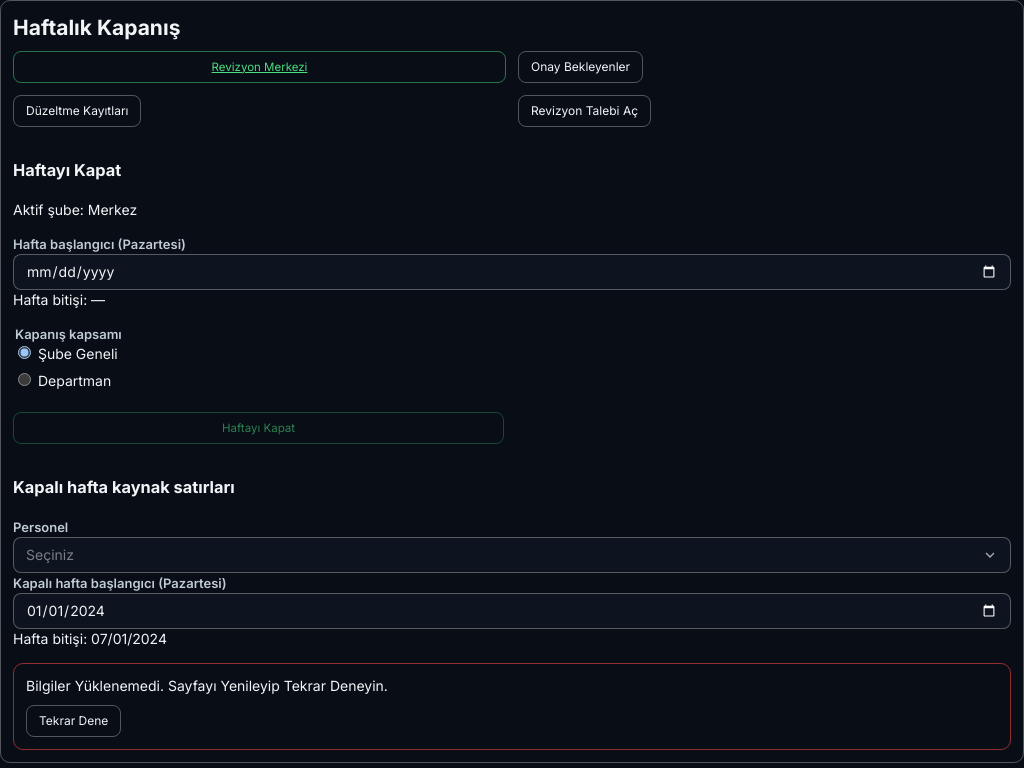
Scenario: HaftalikKapanisClosePanel UI › protects double submit so POST runs once
Expected: the button with test id "hk-close-open" is shown, top-left (13, 412), bottom-right (504, 444)
Type "2026-04-06" into the date field with test id "hk-close-hafta-baslangic" at (512, 272), box top-left (13, 254), bottom-right (1011, 290)
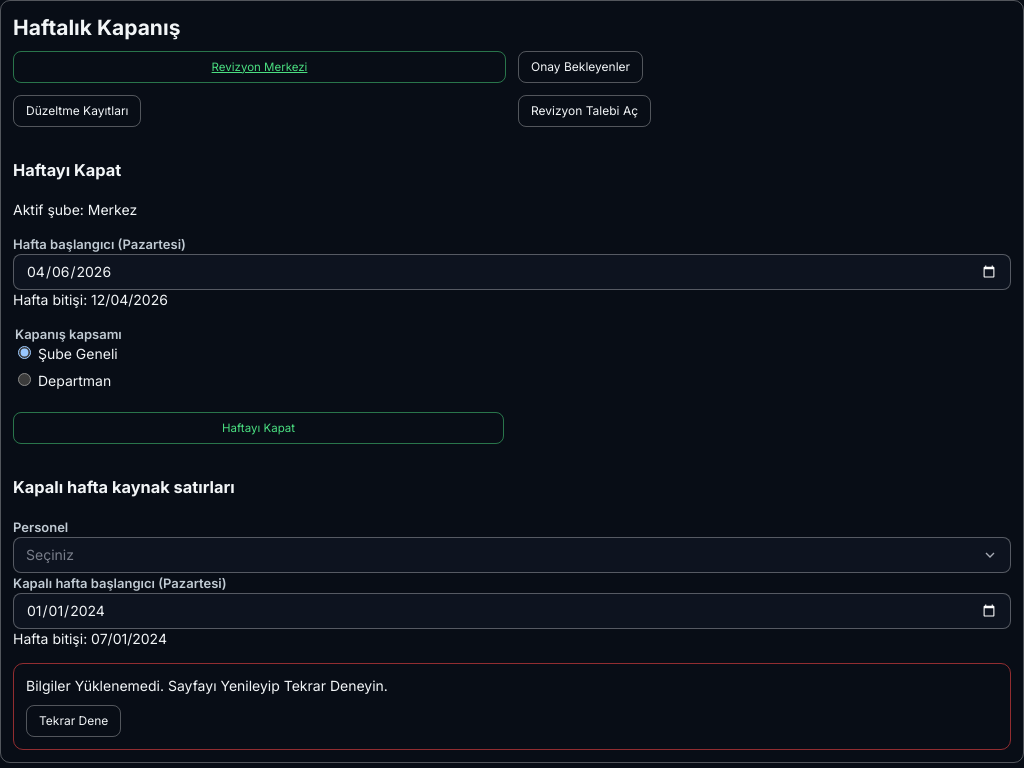
Expected: the text with test id "hk-close-hafta-bitis" shows "12/04/2026", top-left (91, 291), bottom-right (168, 308)
Click the button with test id "hk-close-open" at (258, 428), box top-left (13, 412), bottom-right (504, 444)
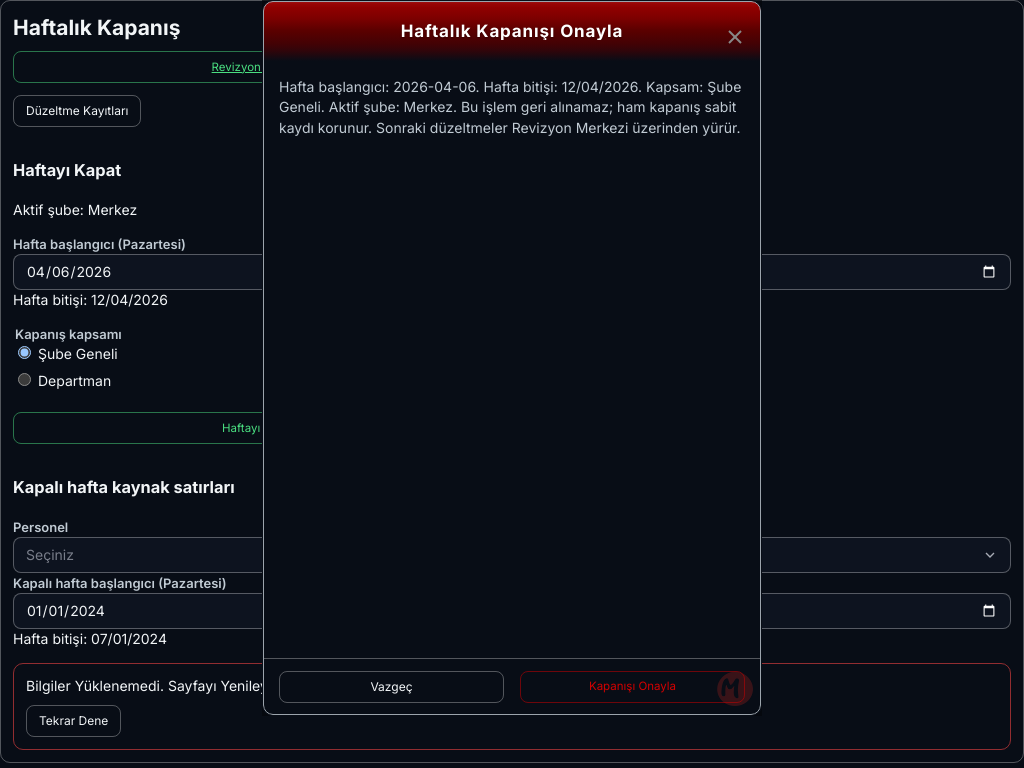
Expected: the element with test id "hk-close-confirm-dialog" is shown, top-left (279, 78), bottom-right (741, 136)
Click the button with test id "hk-close-confirm-dialog-confirm" at (632, 687), box top-left (520, 671), bottom-right (745, 703)
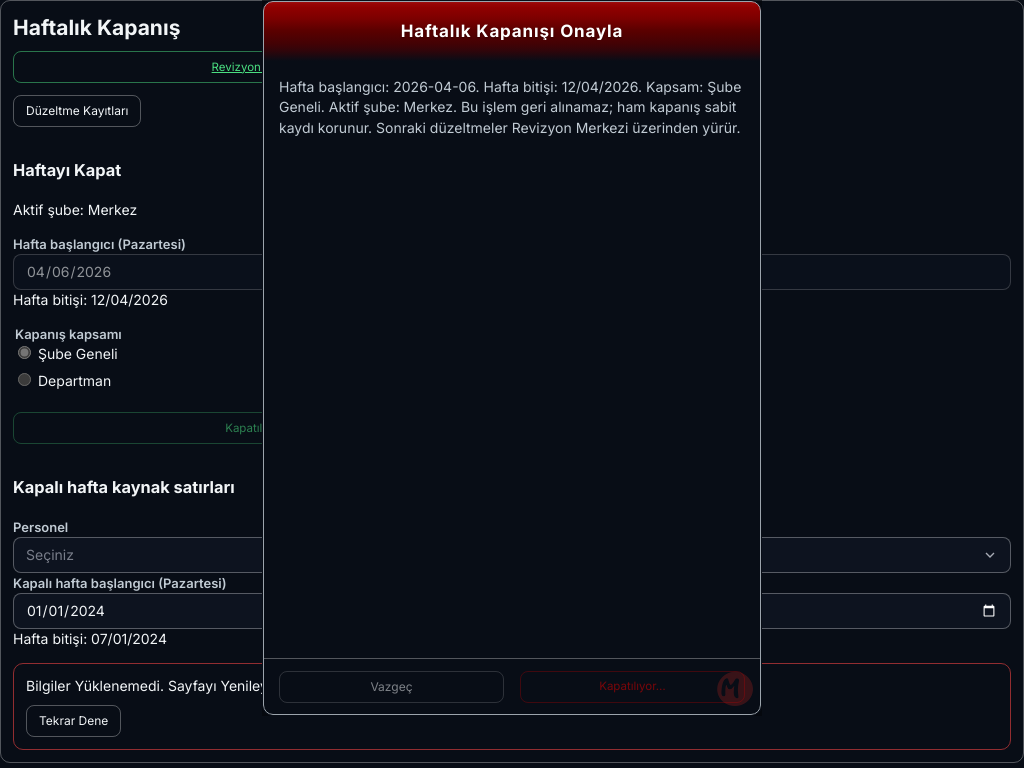
Click the button with test id "hk-close-confirm-dialog-confirm" at (632, 687), box top-left (520, 671), bottom-right (745, 703)
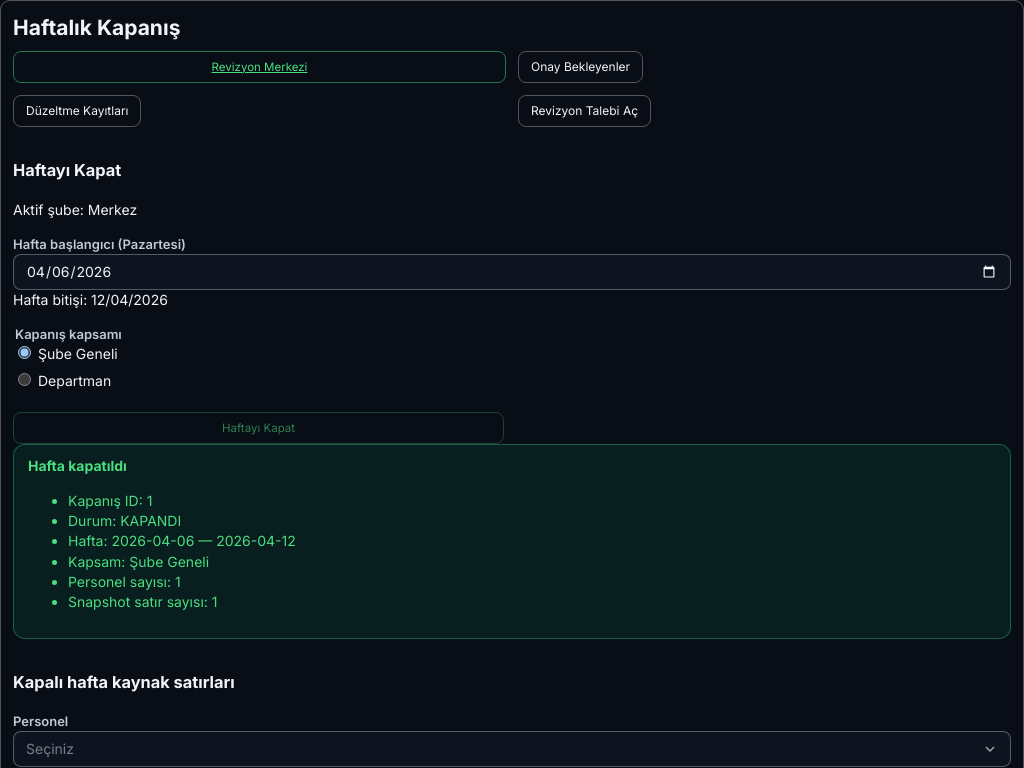
Expected: the element with test id "hk-close-success" is shown, top-left (13, 444), bottom-right (1011, 639)
